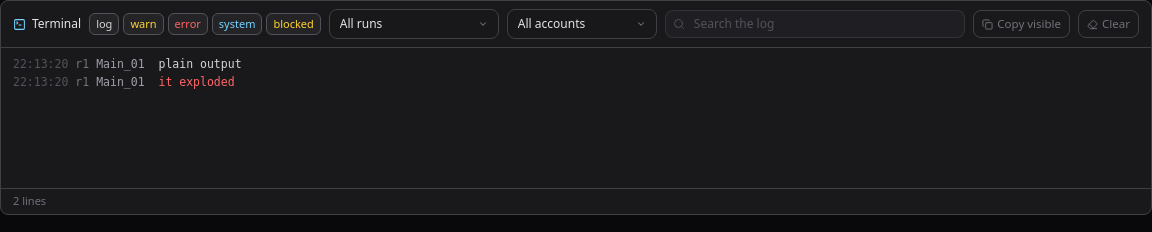
Test: PythonTerminal › filters by level
Expected: the text "it exploded" is shown, [158,75,235,89]
Click the button "error" at (188, 24), box [168,13,208,35]
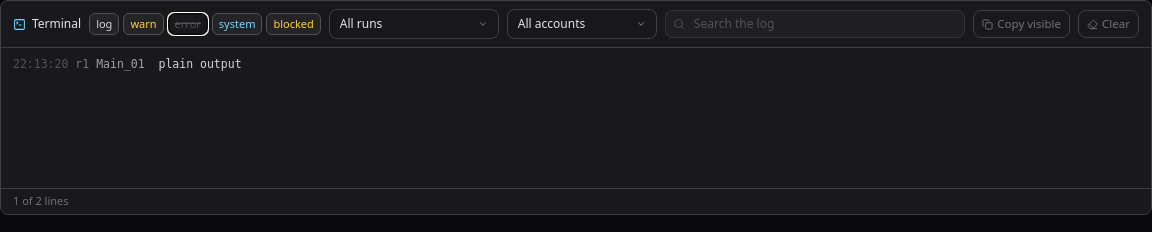
Expected: the text "plain output" is shown, [158,57,242,71]
Expected: the text "it exploded" is gone
